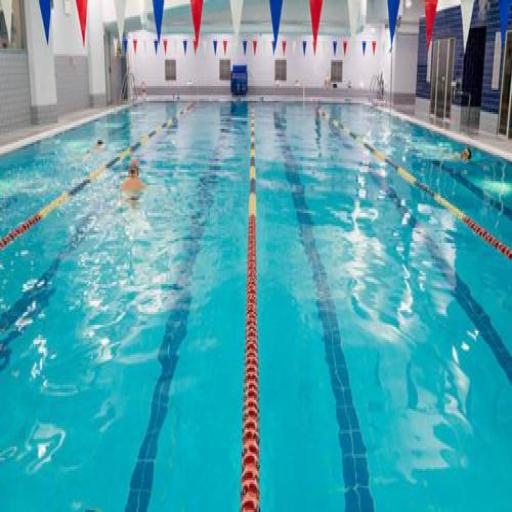swimming: (118, 155, 147, 204)
